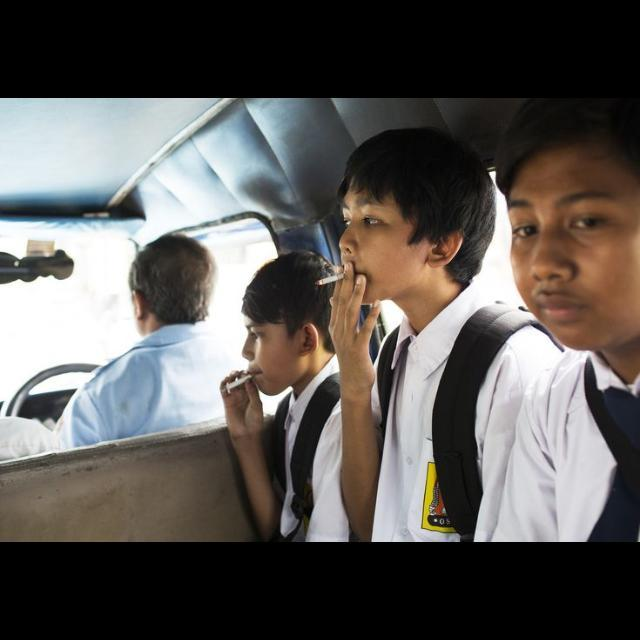rokok: (220, 374, 260, 390), (318, 272, 346, 290)
